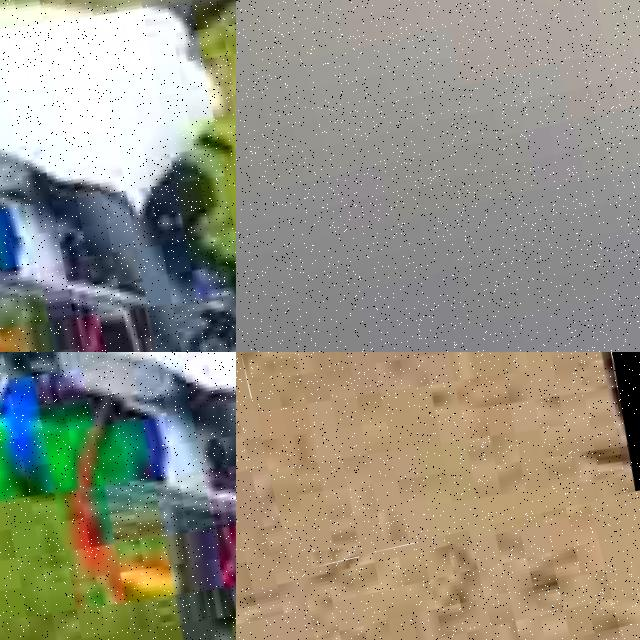drone: (237, 352, 640, 570), (0, 0, 236, 352), (0, 352, 236, 640)
